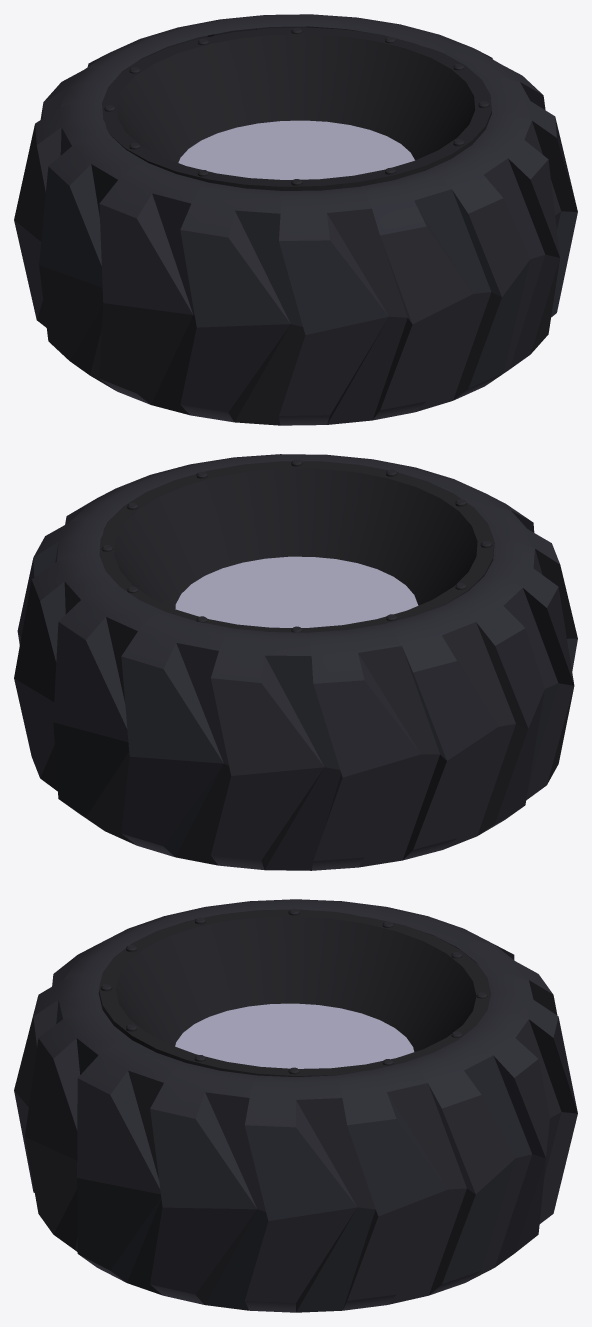
Rendered from VehicleFRW.fbx.
3 views of the same model, one above another, from view 1: azimuth 30°, elevation 25°; view 2: azimuth 150°, elevation 25°; view 3: azimuth 270°, elevation 25° (orthographic).
Parts seen in each view (by area): view 1: FRW; view 2: FRW; view 3: FRW.
Boxes of the visible parts, x1,y1,x2,y2 form: FRW: (14, 14, 577, 425); FRW: (14, 454, 577, 870); FRW: (14, 899, 577, 1312).
Size of the model in its own units: 7.09 by 3.56 by 7.09.
